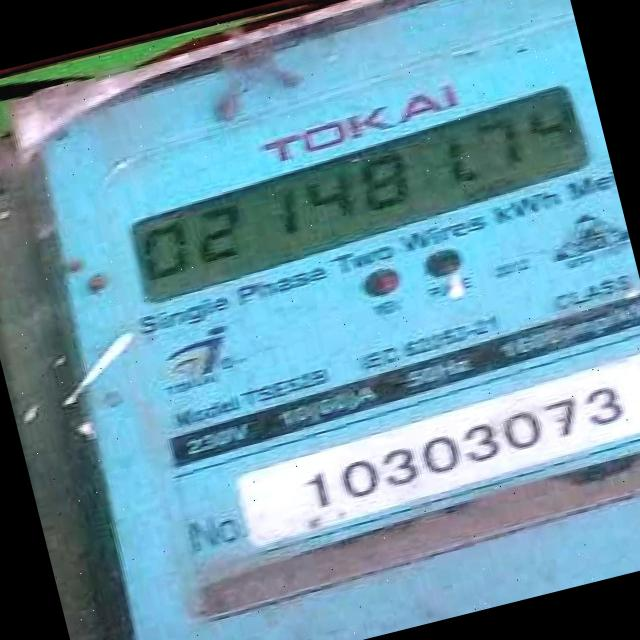LCD: (110, 83, 609, 300)
